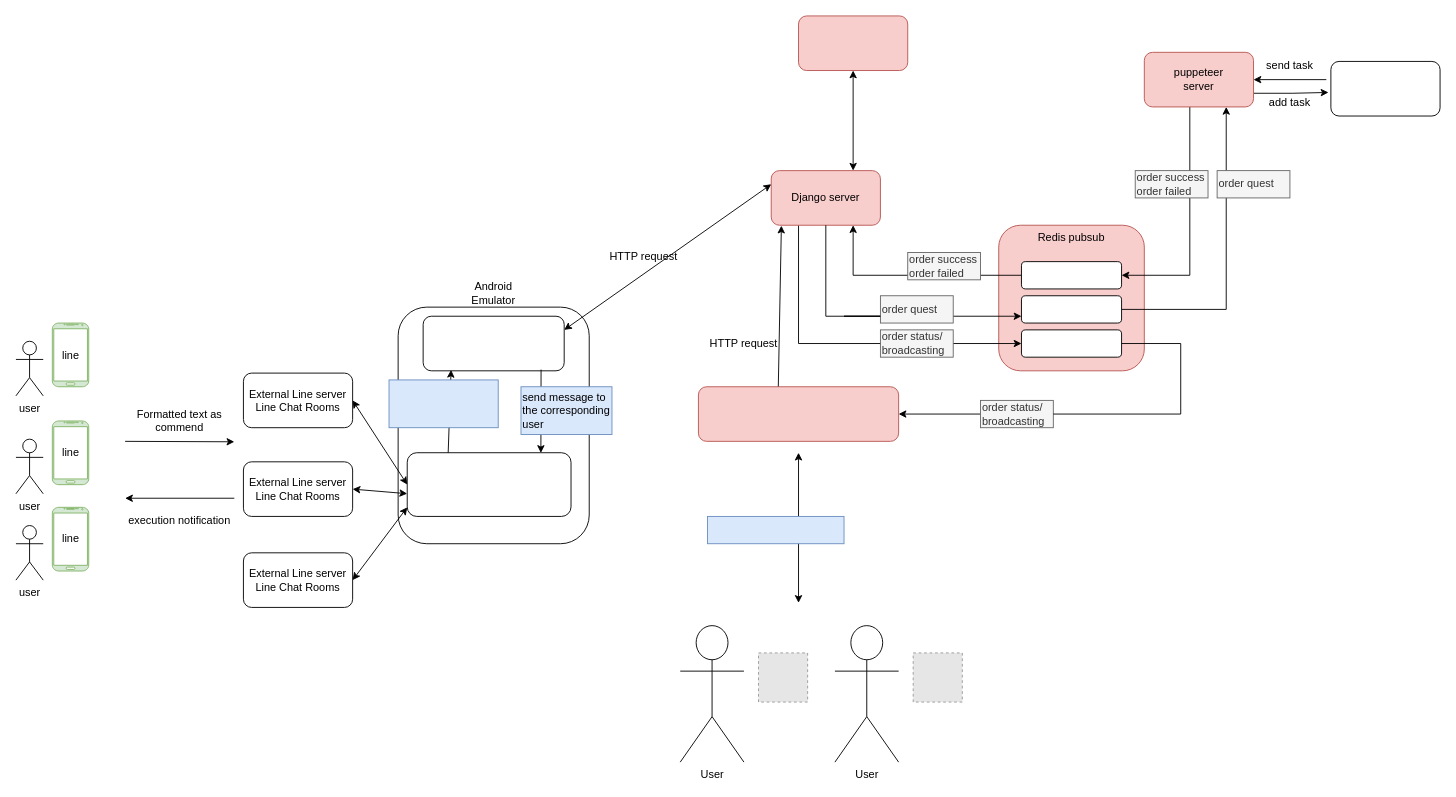
Image size: 1456x797. Some labels were removed from this diagram. Grey dashed boxes stand in for pictures. Each missing label, with the box of its shape:
Auto Js: (422, 315, 564, 371)
bar: (1021, 261, 1122, 289)
DB: (798, 15, 908, 71)
foo: (1021, 329, 1122, 357)
message IO: (707, 516, 844, 544)
piggy: (1021, 295, 1122, 323)
Read messages with the corresponding user: (388, 379, 498, 428)
Redis MQ bull.js: (1330, 61, 1440, 116)
Special Purpose Line Account On device: (406, 452, 571, 516)
Telegram Bot Server: (698, 386, 899, 441)
